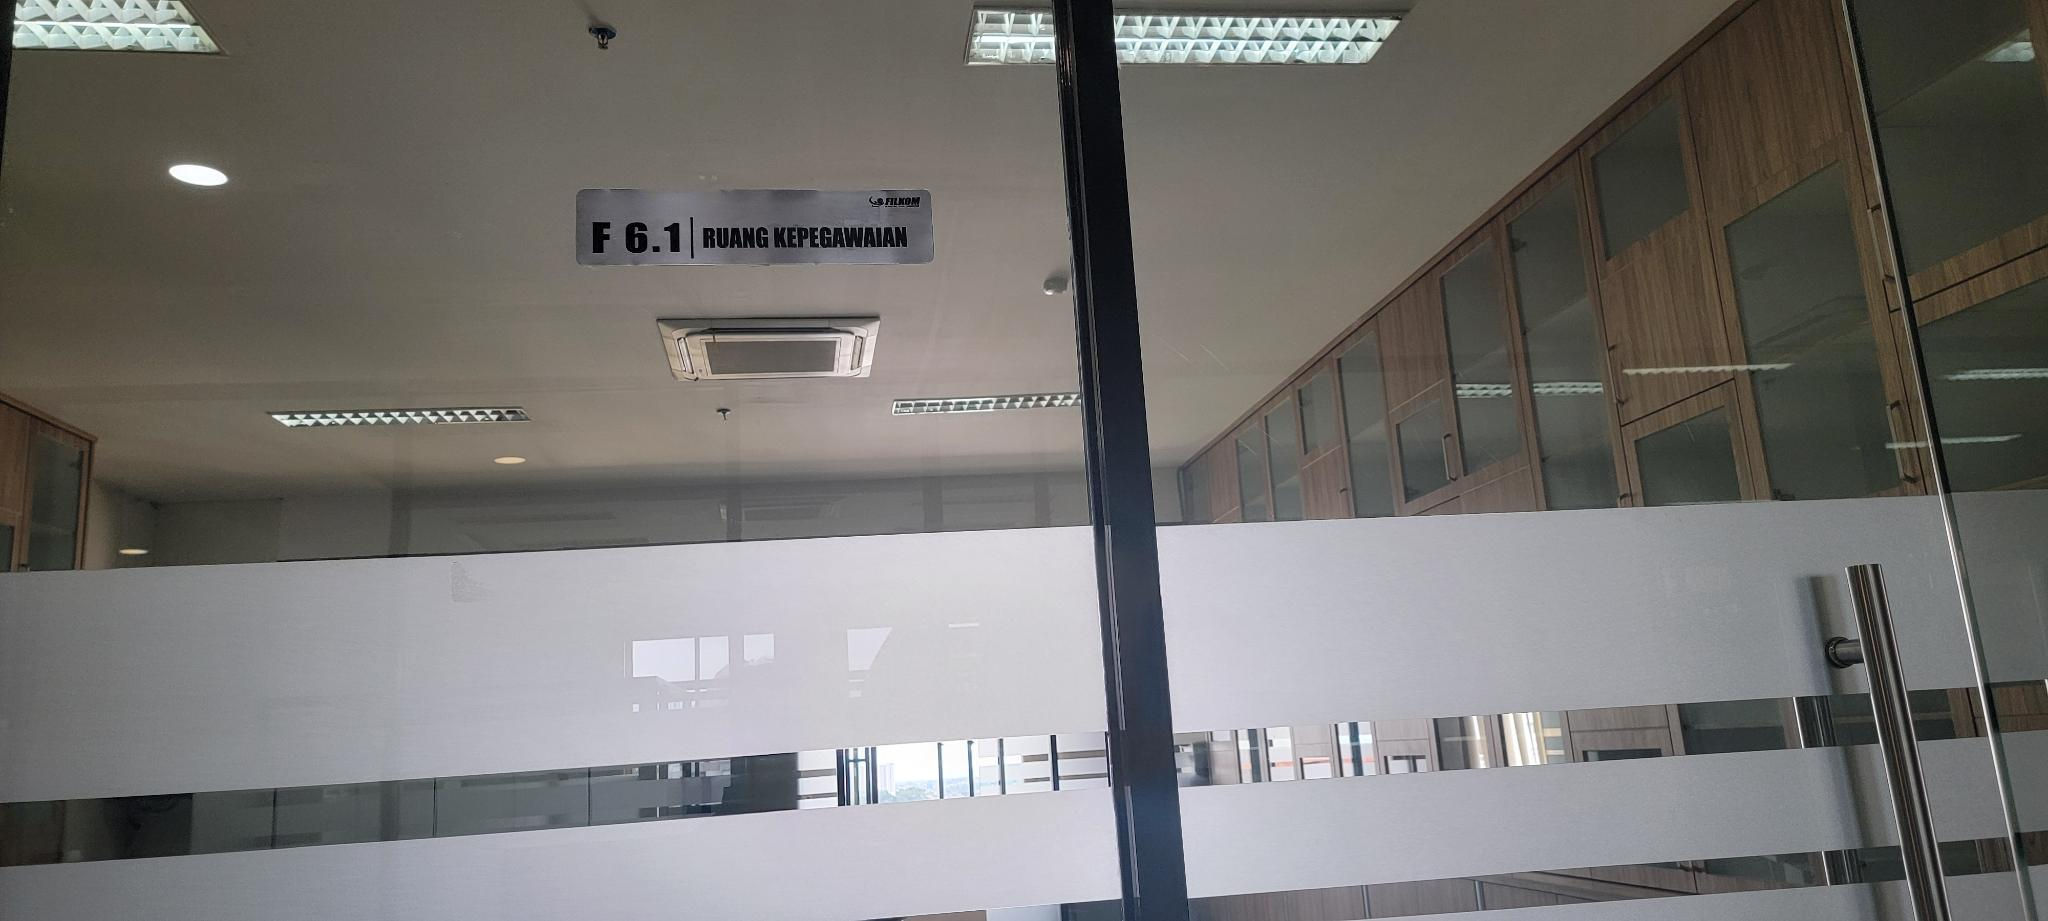plate: (575, 189, 934, 267)
